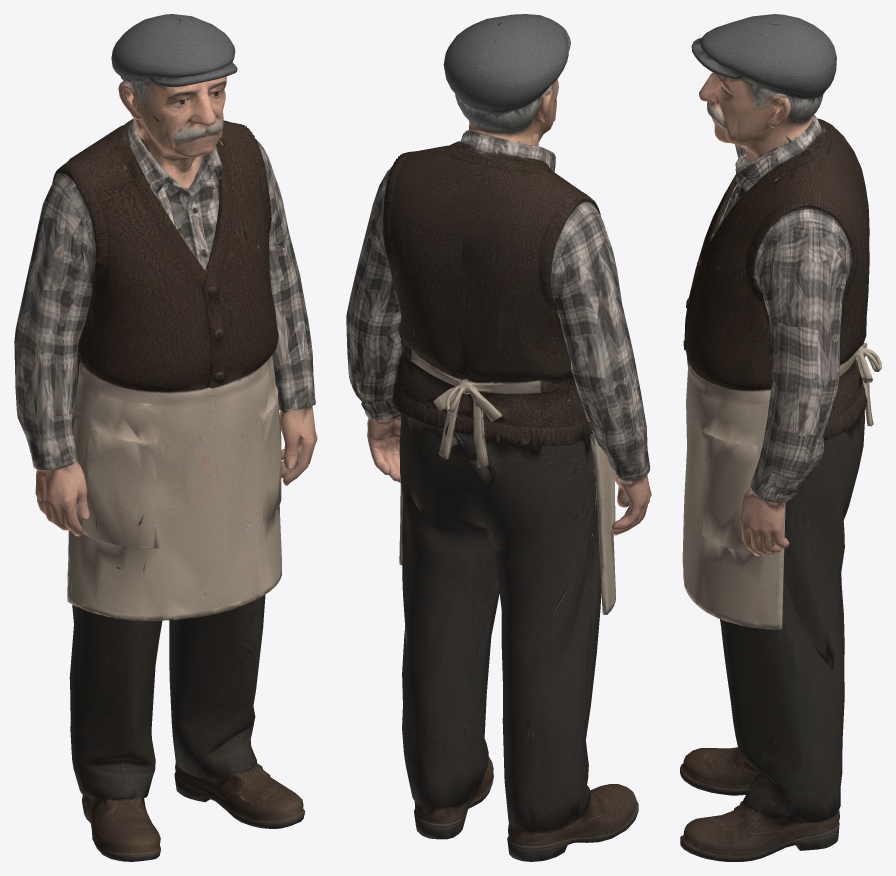
File: owner.glb
The picture shows the model from 3 angles, left to right: view 1: azimuth 30°, elevation 25°; view 2: azimuth 150°, elevation 25°; view 3: azimuth 270°, elevation 25°; orthographic projection.
Parts seen in each view (by area): view 1: Mesh_0; view 2: Mesh_0; view 3: Mesh_0.
Boxes of the visible parts, left/top/right/bottom form: Mesh_0: left=14, top=14, right=317, bottom=861; Mesh_0: left=346, top=14, right=651, bottom=861; Mesh_0: left=680, top=14, right=881, bottom=861.
Bounding box in the file's own units: 0.7183 × 1.9 × 0.4373.
Materials: 1 (1 with a texture image).
